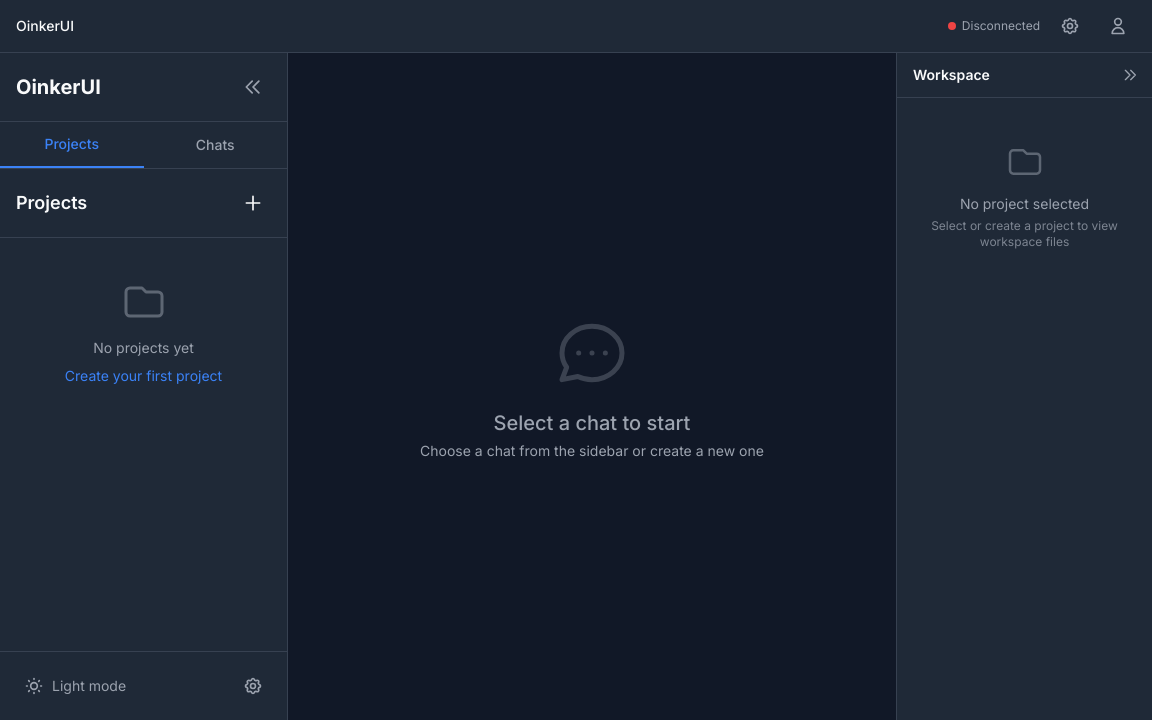
Test: App Integration › shows profile modal when profile button is clicked
This screenshot has width=1152, height=720.
# Find profile button
Step 1. Click the button titled "Profile" → coordinates (1118, 26), box [1100,8,1136,44]
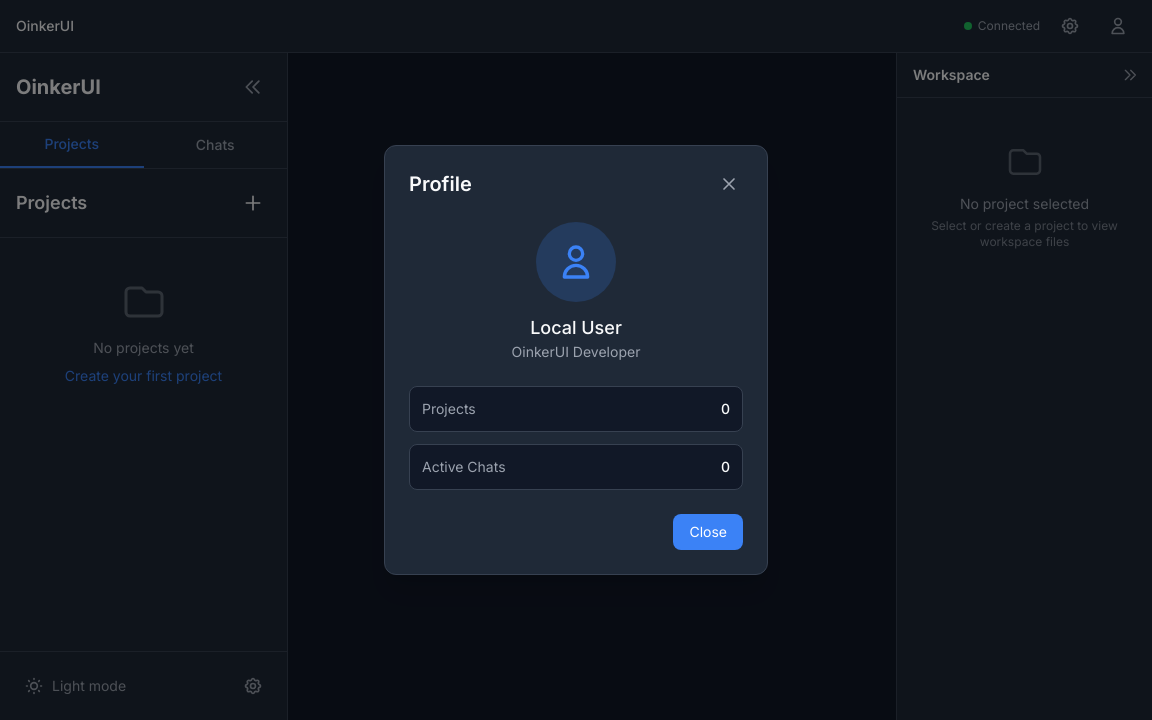
Check: the heading "Local User" is shown, box [530,314,622,342]
Check: the text "OinkerUI Developer" is shown, box [512,342,640,362]
